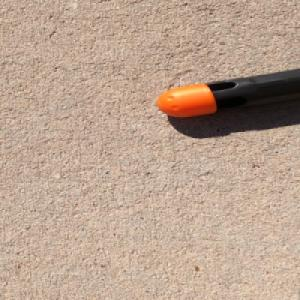PlasticPart: (155, 66, 300, 118)
